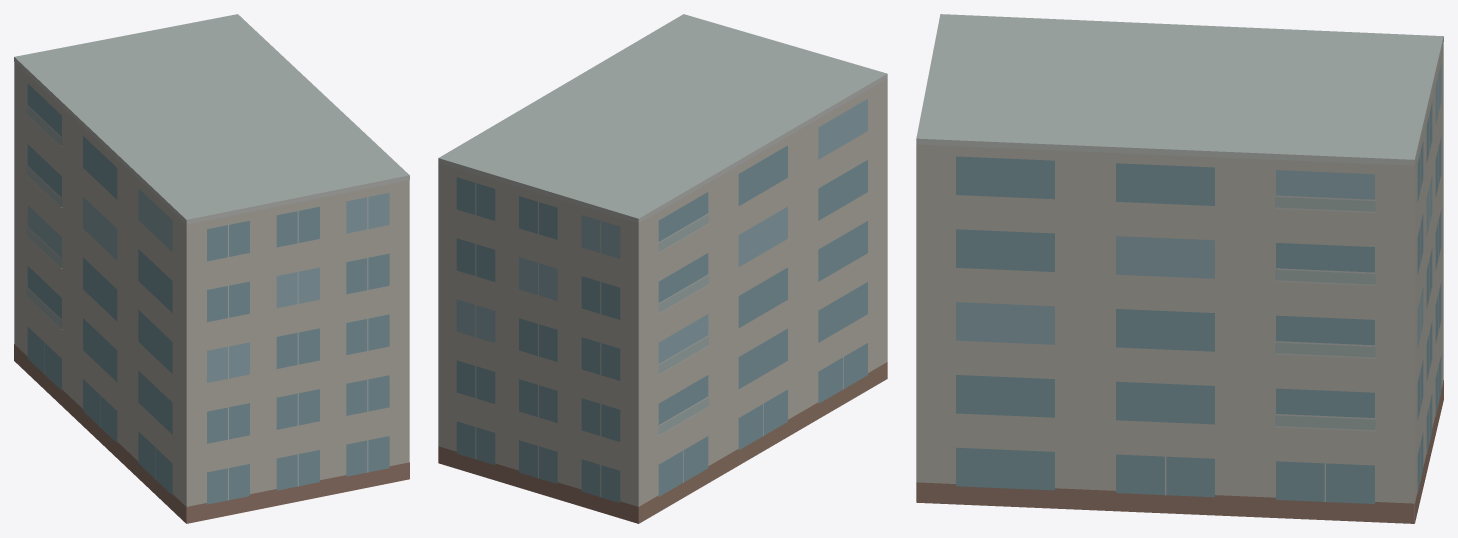
The model's file is survey-upis-33020892.glb.
The picture shows the model from 3 angles, left to right: view 1: azimuth 30°, elevation 25°; view 2: azimuth 150°, elevation 25°; view 3: azimuth 270°, elevation 25°; orthographic projection. The views are drawn at different scales.
Parts seen in each view (by area): view 1: survey-upis-33020892.tmp; view 2: survey-upis-33020892.tmp; view 3: survey-upis-33020892.tmp.
Boxes of the visible parts, box(x1,y1,x2,y2) form: survey-upis-33020892.tmp: box(14, 14, 409, 523); survey-upis-33020892.tmp: box(438, 14, 887, 523); survey-upis-33020892.tmp: box(916, 14, 1443, 523).
Size of the model in its own units: 12.89 by 15 by 19.7.
